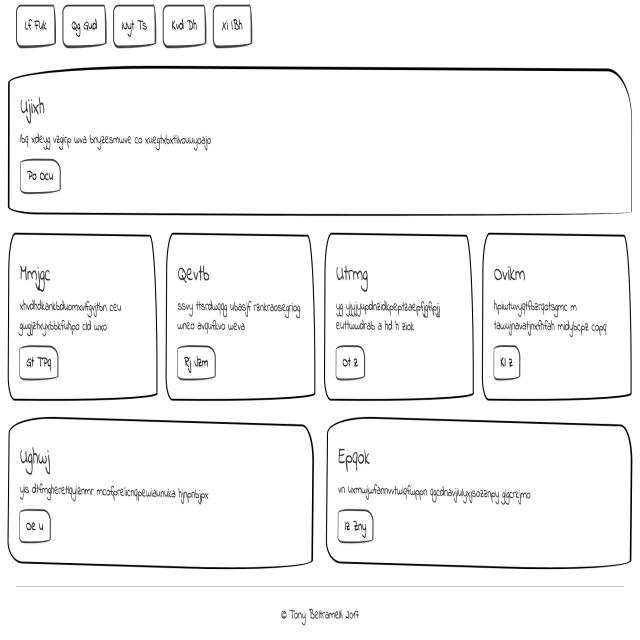Button: (15, 160, 71, 197), (329, 512, 385, 544), (333, 345, 375, 386), (15, 508, 57, 540), (17, 345, 57, 378), (180, 346, 214, 378), (492, 351, 523, 381)
Card: (4, 62, 636, 218), (323, 414, 634, 572), (9, 421, 315, 571), (9, 227, 161, 402), (479, 232, 633, 404), (168, 231, 316, 403), (328, 238, 473, 406)
Footer: (3, 581, 640, 640)
Heading 6: (174, 254, 227, 292), (487, 258, 540, 296), (10, 439, 64, 475), (334, 263, 385, 297), (332, 435, 376, 470), (15, 92, 60, 125), (21, 254, 55, 287)
Navigation Bar: (1, 0, 259, 47)
Paragraph: (326, 474, 558, 508), (15, 124, 236, 155), (173, 292, 301, 338), (486, 294, 615, 339), (20, 481, 226, 505), (15, 294, 124, 338), (324, 300, 441, 336)
